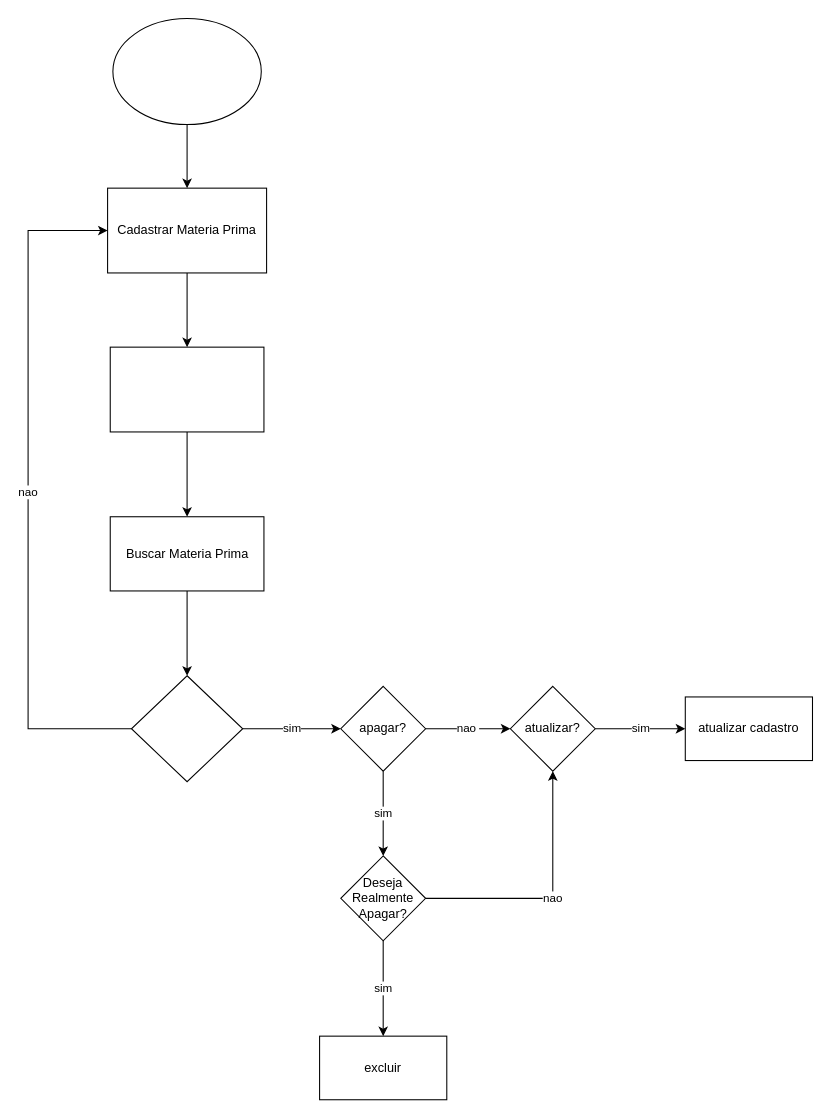
Some shapes in this 831 by 1118 pixel diagram are drawn without their labels. Each missing label, with the centre of its shape:
inicio: (x=186, y=71)
Listar Matéria: (x=186, y=389)
Matéria Prima existe?: (x=186, y=728)
